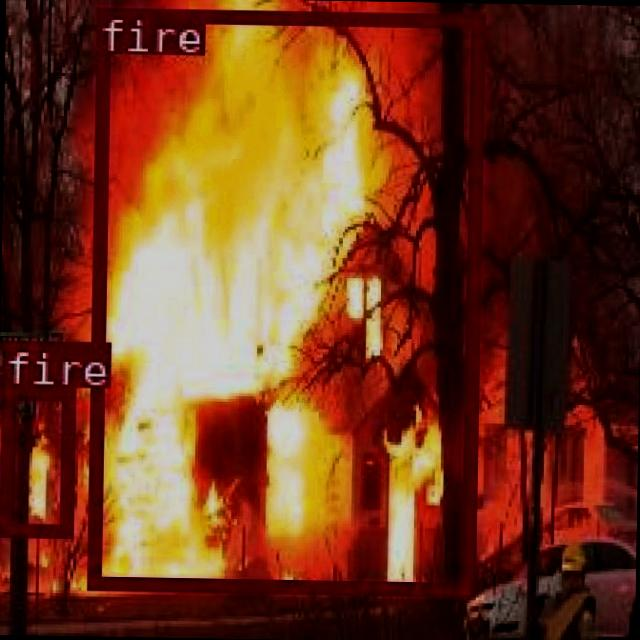fire: (86, 7, 480, 593), (0, 383, 71, 533)
